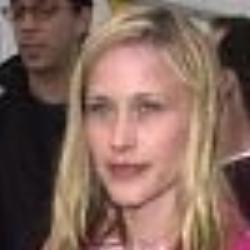face: (50, 3, 239, 237)
